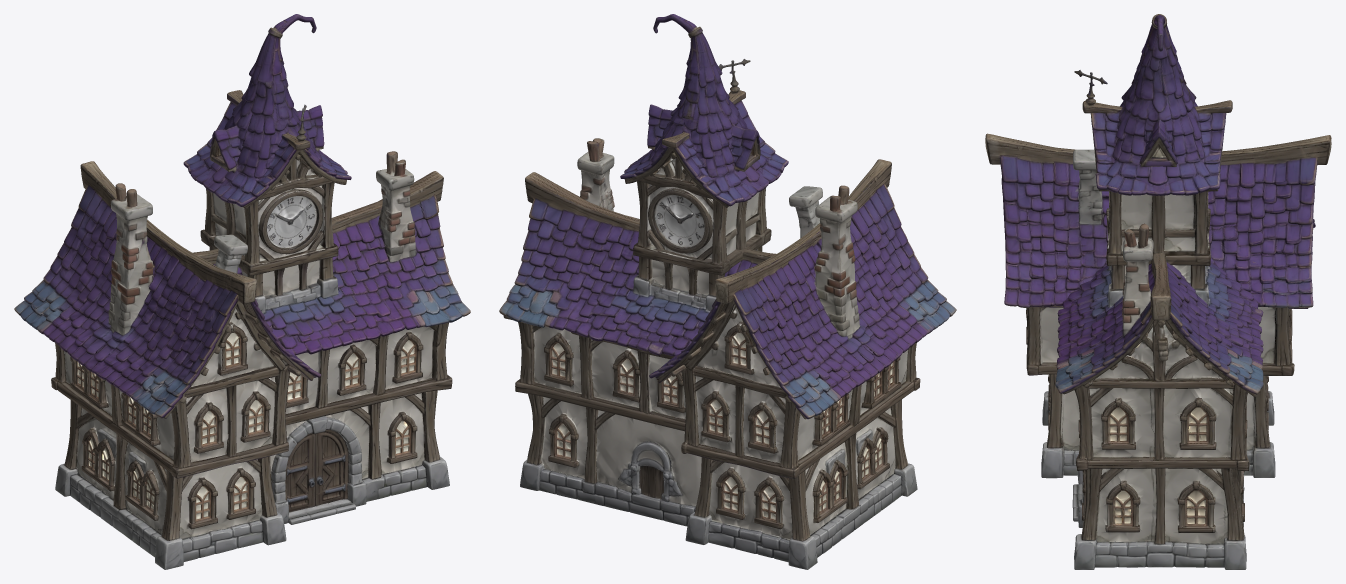
Rendered from SilverTownHall_300k.glb.
The picture shows the model from 3 angles, left to right: view 1: azimuth 30°, elevation 25°; view 2: azimuth 150°, elevation 25°; view 3: azimuth 270°, elevation 25°; orthographic projection. The views are drawn at different scales.
Parts seen in each view (by area): view 1: Mesh_0; view 2: Mesh_0; view 3: Mesh_0.
Boxes of the visible parts, x1,y1,x2,y2 form: Mesh_0: (14,14,470,569); Mesh_0: (499,14,956,569); Mesh_0: (985,14,1331,569).
Size of the model in its own units: 1.51 by 1.9 by 1.21.
Materials: 1 (1 with a texture image).
